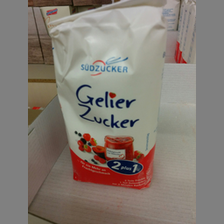tomato_sauce: (45, 2, 167, 190)
